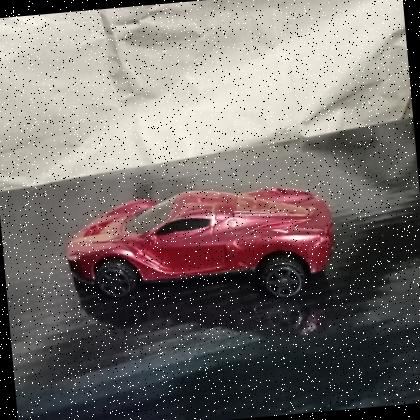Car: (55, 172, 346, 322)
